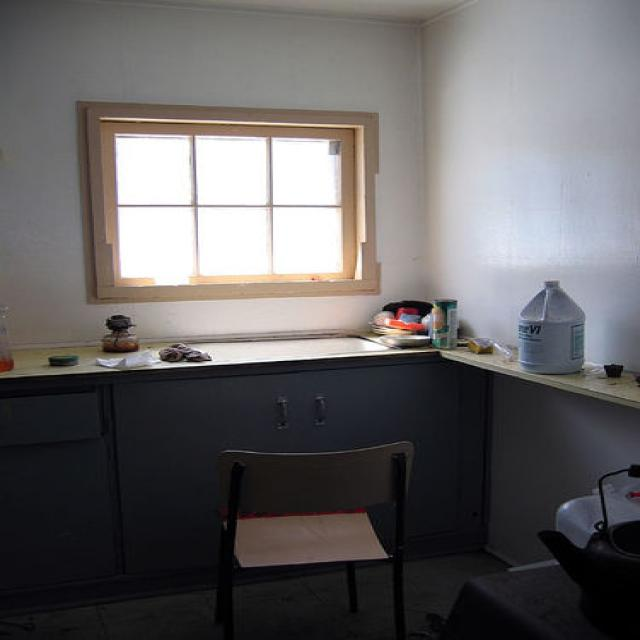Table: (461, 522, 640, 640)
chair: (196, 440, 458, 640)
